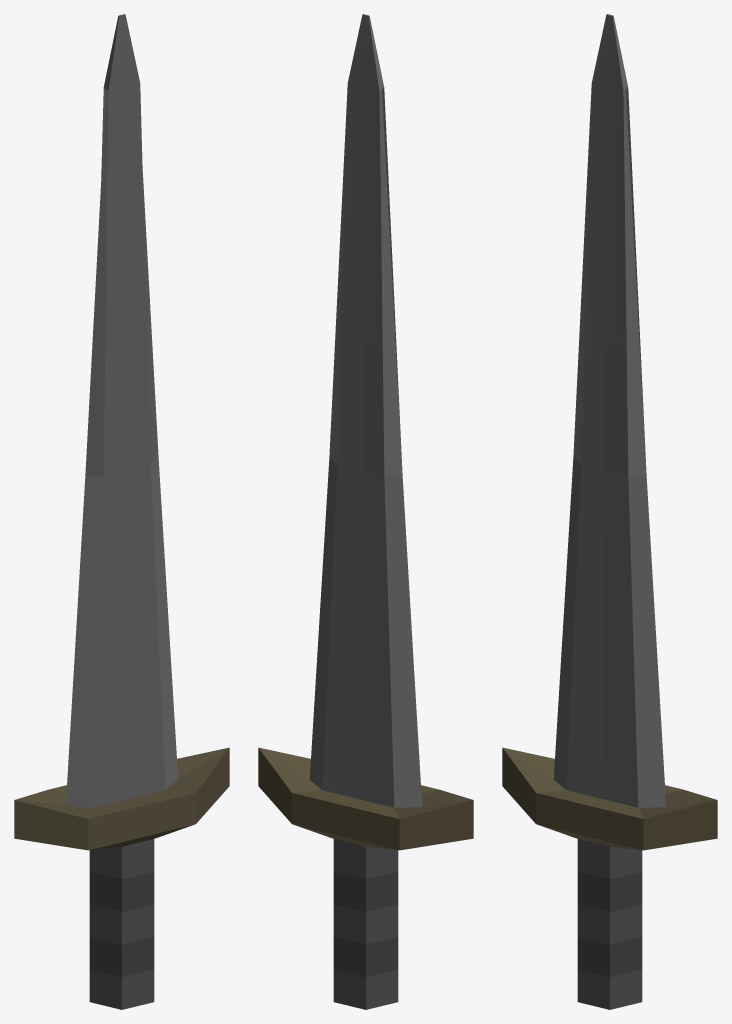
File: W_Sword_2.fbx
3 views of the same model, side by side, from view 1: azimuth 30°, elevation 25°; view 2: azimuth 150°, elevation 25°; view 3: azimuth 330°, elevation 25° (orthographic).
Parts seen in each view (by area): view 1: Sword; view 2: Sword; view 3: Sword.
Part boxes in pixels (x1,y1,x2,y2): Sword: (14, 14, 229, 1009); Sword: (258, 14, 473, 1009); Sword: (502, 14, 717, 1009).
Bounding box in the file's own units: 0.47 × 2.04 × 0.1519.
